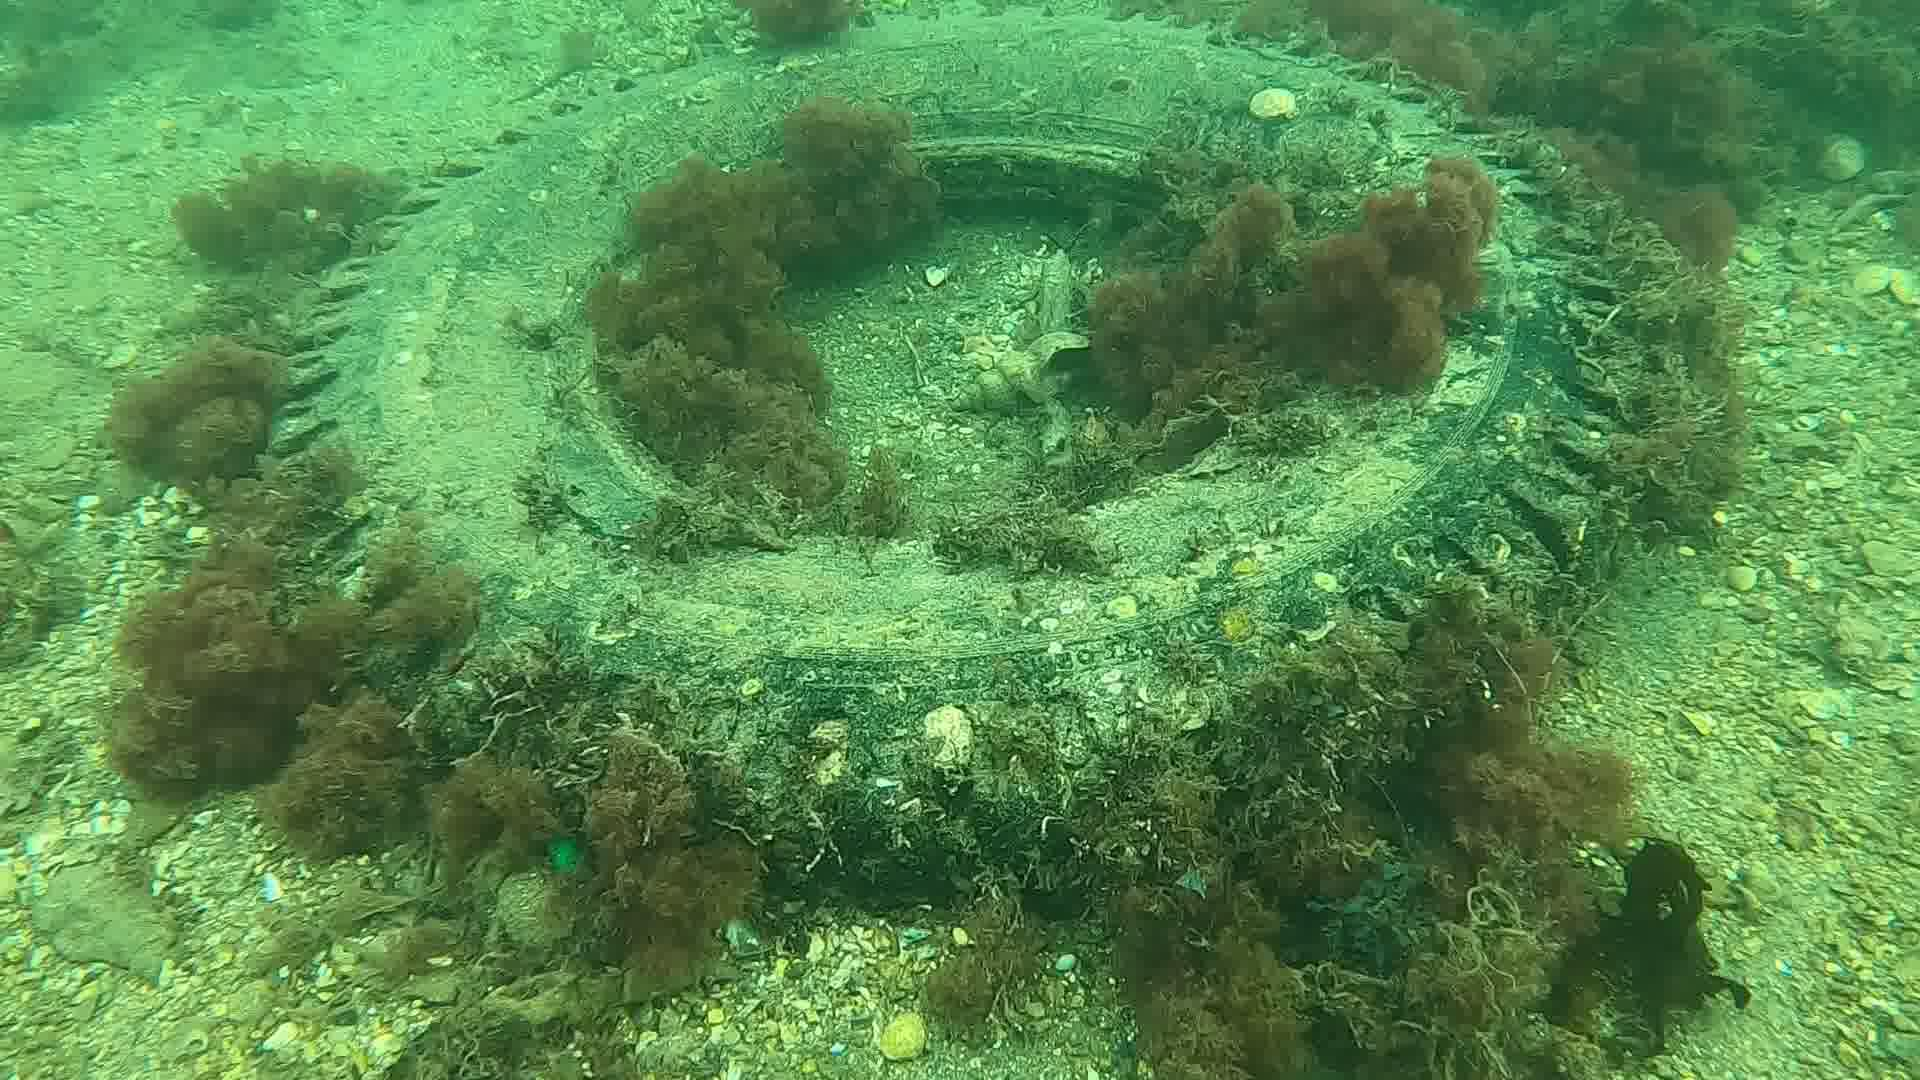tire: (266, 0, 1654, 922)
